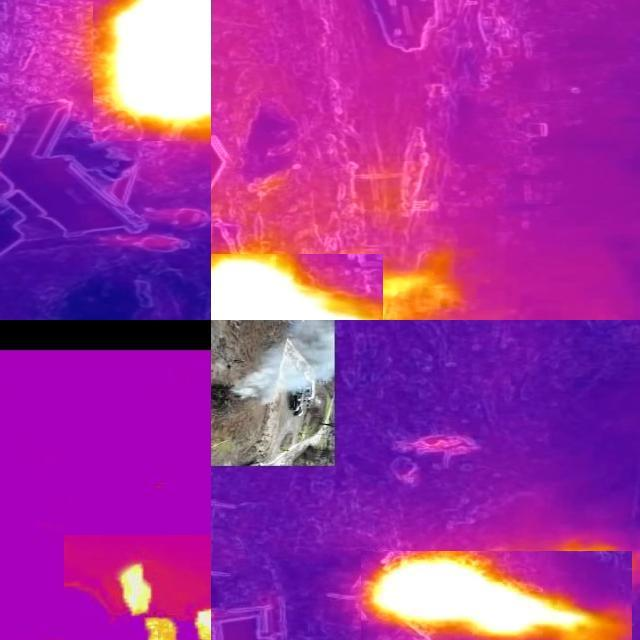fire: (362, 551, 633, 640), (94, 1, 212, 141), (212, 254, 384, 321), (113, 557, 210, 640)
